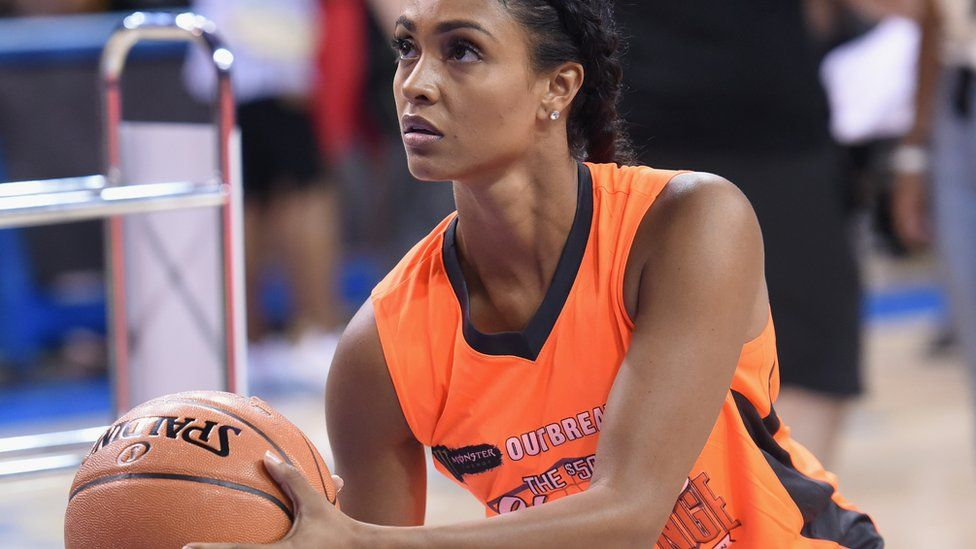b_ball: (67, 379, 342, 549)
face: (375, 3, 643, 186)
player: (293, 3, 897, 549)
